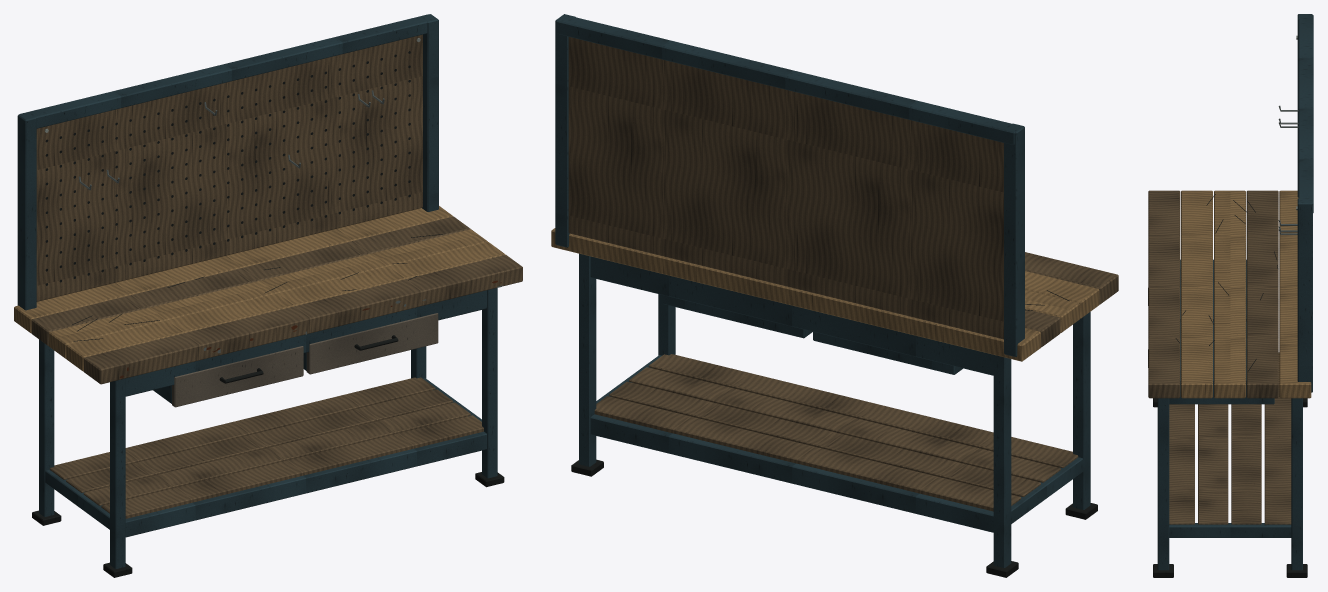
The model's file is workbench_pegboard.glb.
The picture shows the model from 3 angles, left to right: view 1: azimuth 30°, elevation 25°; view 2: azimuth 150°, elevation 25°; view 3: azimuth 270°, elevation 25°; orthographic projection. The views are drawn at different scales.
Visible parts, largest first — view 1: workbench_pegboard; view 2: workbench_pegboard; view 3: workbench_pegboard.
Part boxes in pixels (x1,y1,x2,y2): workbench_pegboard: (14, 14, 522, 577); workbench_pegboard: (551, 14, 1118, 577); workbench_pegboard: (1148, 14, 1313, 577).
Bounding box in the file's own units: 1.82 × 1.66 × 0.659.
8 materials, 8 textured.
